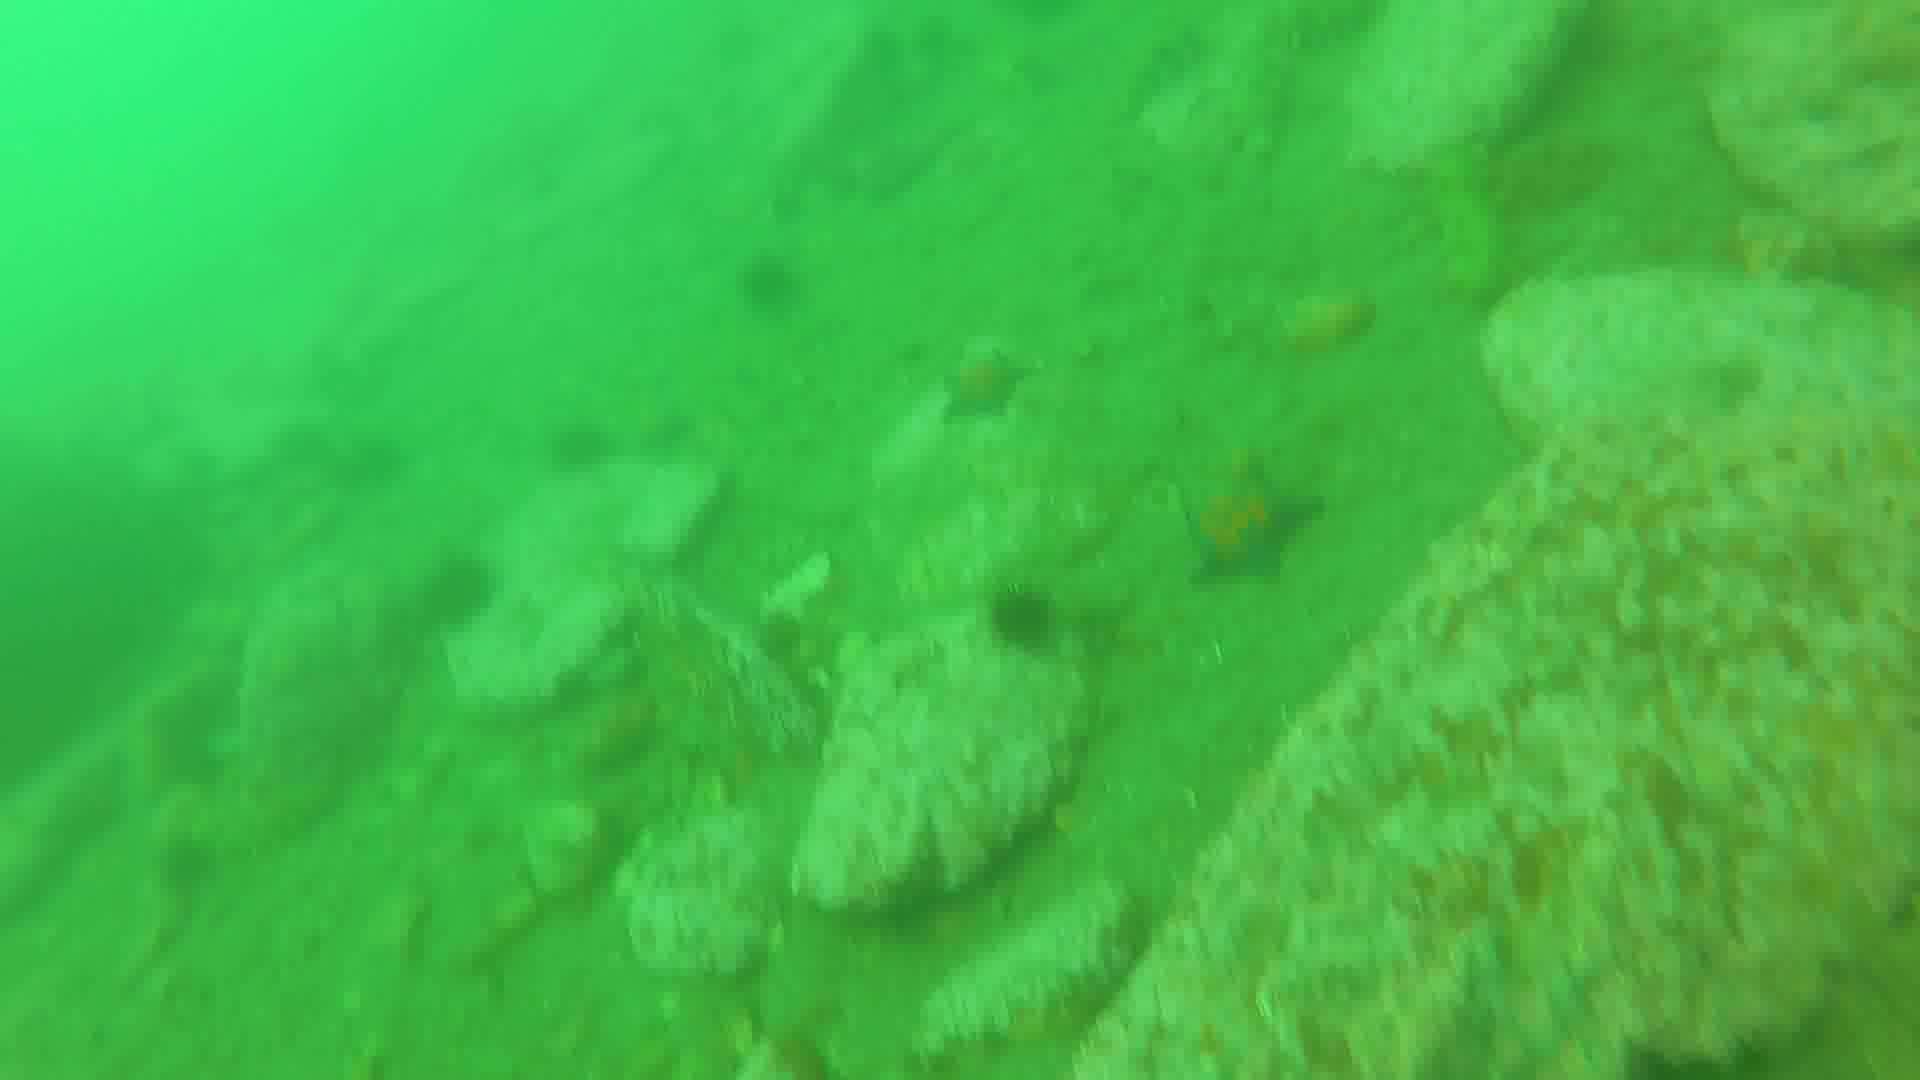echinus: (410, 546, 493, 625), (745, 255, 807, 313), (997, 580, 1054, 644), (549, 423, 611, 469)
starfish: (1183, 459, 1327, 584), (945, 345, 1025, 425)
